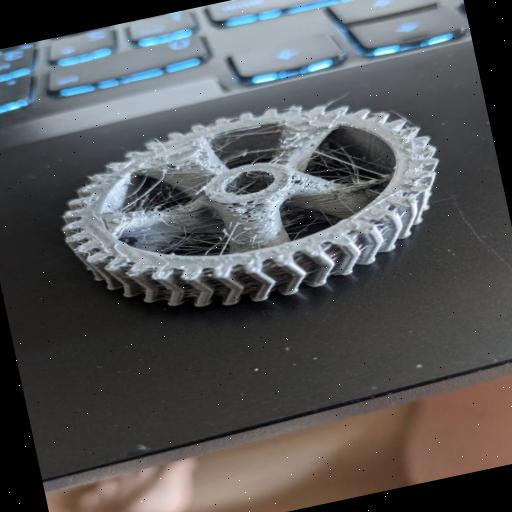stringing: (54, 110, 419, 277)
